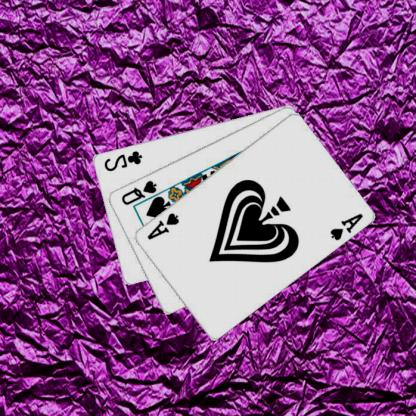2C: (102, 148, 145, 172)
AS: (328, 210, 366, 242), (146, 210, 182, 241)
QS: (120, 178, 160, 206)
